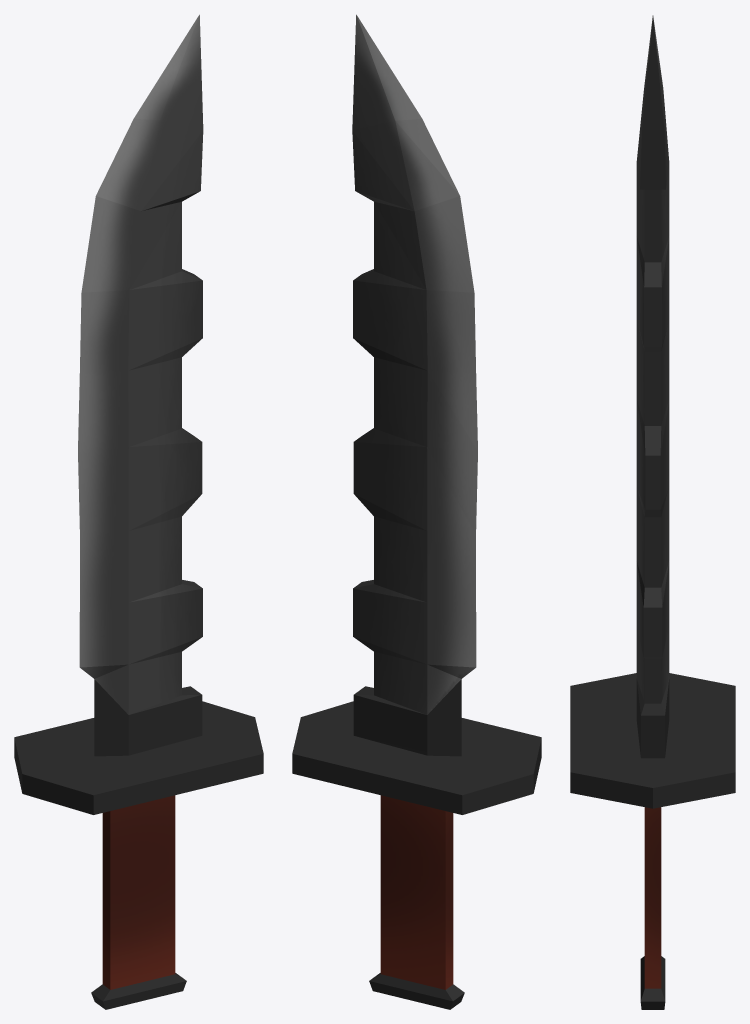
File: Knife.obj
3 views of the same model, side by side, from view 1: azimuth 30°, elevation 25°; view 2: azimuth 150°, elevation 25°; view 3: azimuth 270°, elevation 25° (orthographic). The views are drawn at different scales.
Parts seen in each view (by area): view 1: Knife_Cube; view 2: Knife_Cube; view 3: Knife_Cube.
Boxes of the visible parts, box(x1,y1,x2,y2) form: Knife_Cube: box(14, 14, 263, 1009); Knife_Cube: box(292, 14, 541, 1009); Knife_Cube: box(570, 15, 735, 1009).
Size of the model in its own units: 0.9874 by 3.92 by 0.5825.
